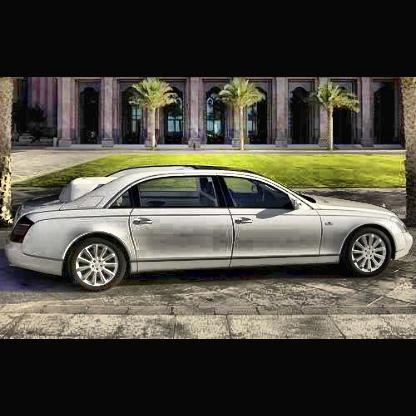Maybach Landaulet Convertible 2012: (7, 166, 413, 294)
